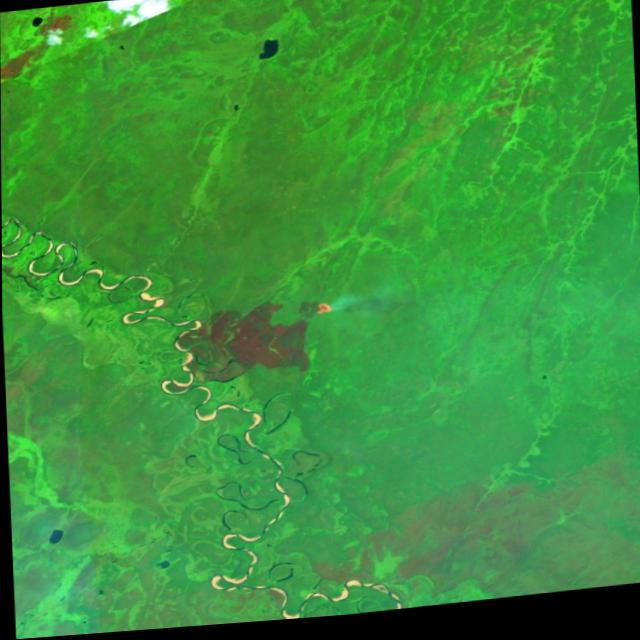fire: (301, 297, 344, 337)
